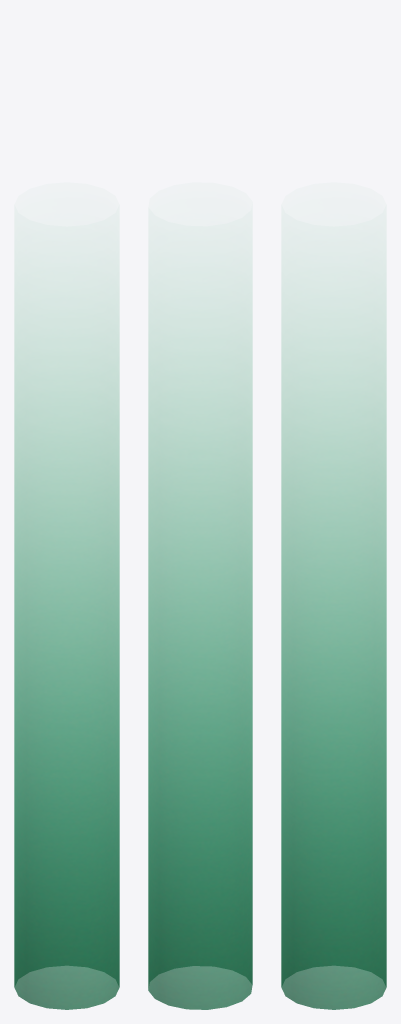
The model's file is 53726fe8-1d24-4fd8-8cee-0ac10fcd8644.glb.
3 renders of one model, left to right at view 1: azimuth 90°, elevation 25°; view 2: azimuth 210°, elevation 25°; view 3: azimuth 270°, elevation 25°, orthographic.
Parts seen in each view (by area): view 1: Lootbeam; view 2: Lootbeam; view 3: Lootbeam.
Part boxes in pixels (x1=…): Lootbeam: x1=14, y1=304, x2=119, y2=1009; Lootbeam: x1=148, y1=304, x2=252, y2=1009; Lootbeam: x1=281, y1=304, x2=386, y2=1009.
Bounding box in the file's own units: 0.2 × 2 × 0.2.
Materials: 1 (1 with a texture image).
